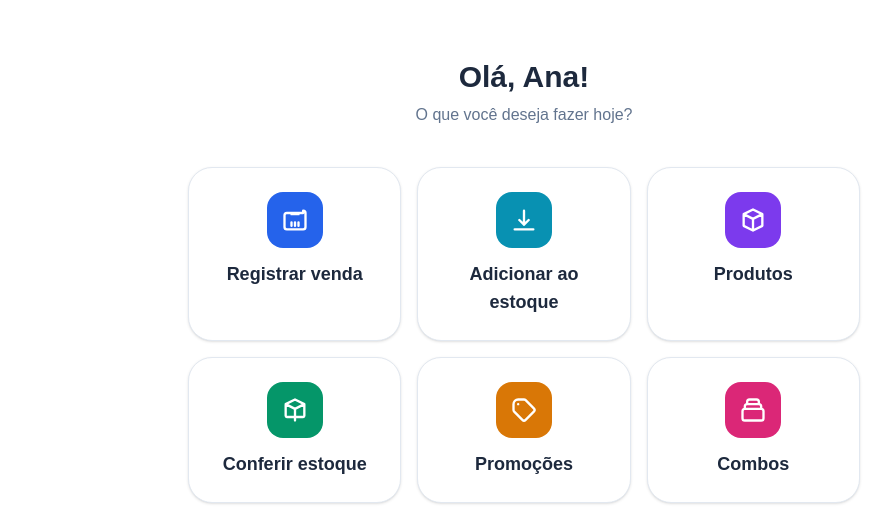
SimplesAssistant › volta para a tela inicial ao sair do ProdutoHub
This screenshot has width=877, height=521.
What coordinates should you click on to do the following:
click the button "Produtos"
I would click on:
 (753, 254)
Its box is [647, 167, 860, 341].
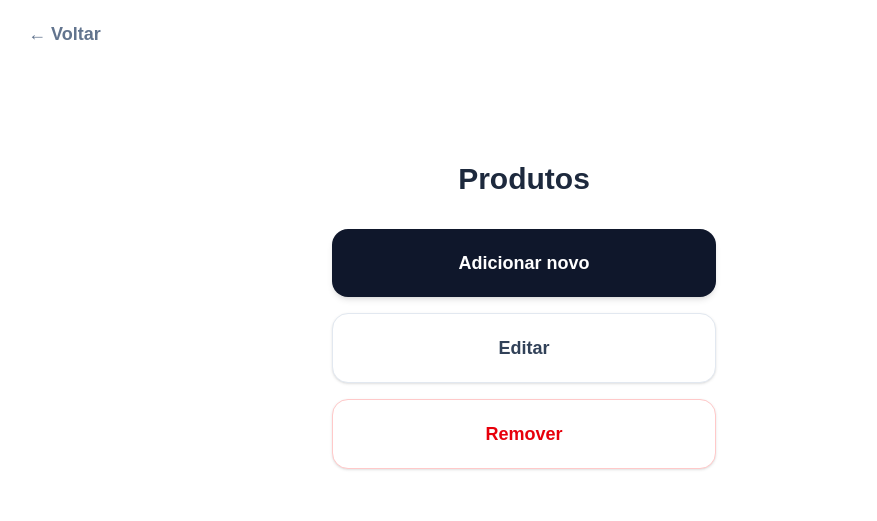
What coordinates should you click on to do the following:
click the button "← Voltar"
I would click on:
 (64, 34)
Its box is [12, 12, 117, 56].
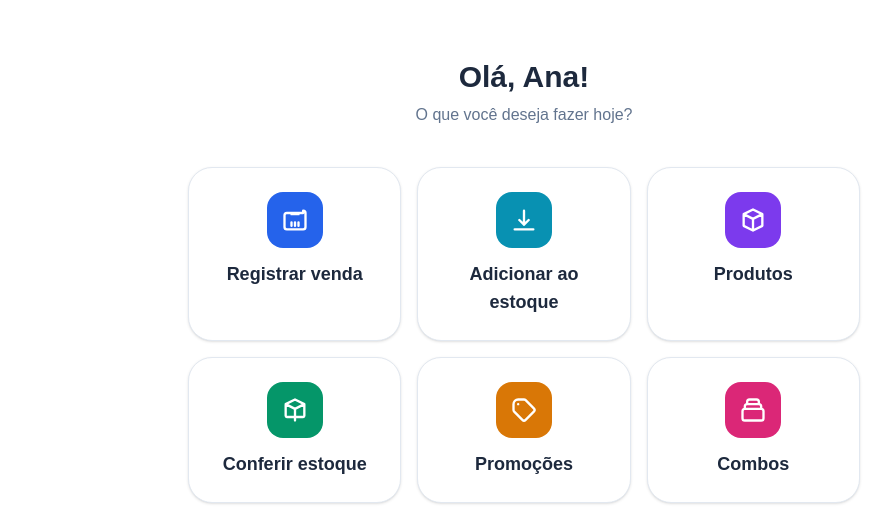
Result: the heading "Olá, Ana!" is shown at [459, 60, 589, 93]
